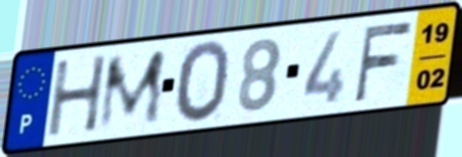4: (301, 27, 348, 106)
8: (236, 36, 285, 115)
F: (351, 18, 416, 105)
H: (46, 52, 110, 140)
M: (95, 46, 169, 134)
O: (173, 38, 233, 127)
